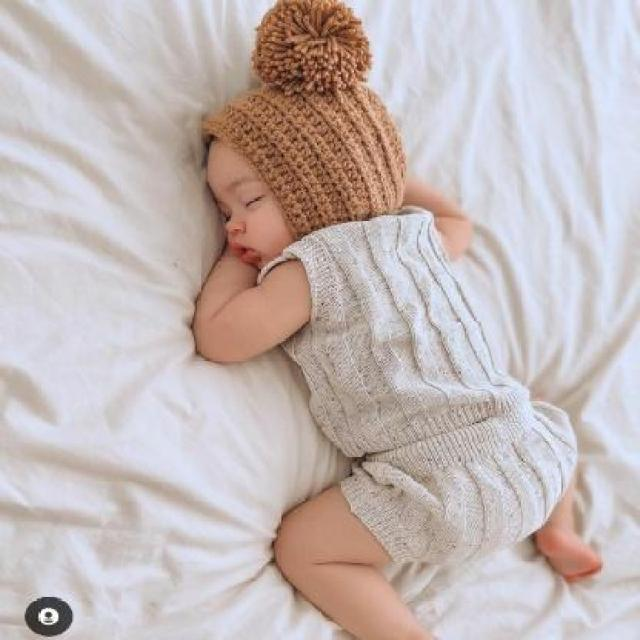baby: (190, 74, 602, 638)
